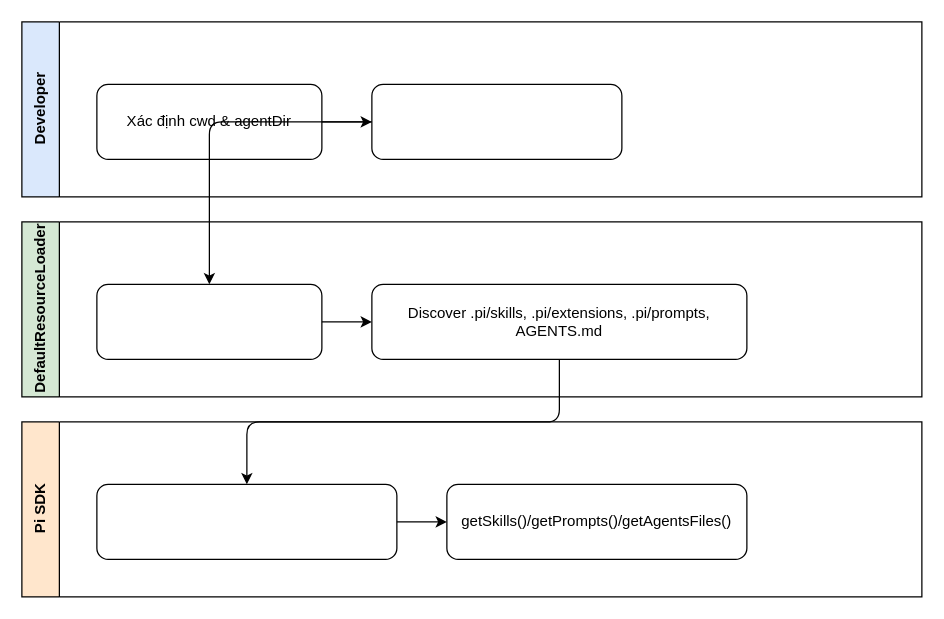
Some shapes in this 944 by 619 pixel diagram are drawn without their labels. The centre of each missing label's shape, as x and y in pixels:
Gọi loader.reload(): the point at 209,321
Khởi tạo Loader với cwd, agentDir: the point at 496,121
Tạo Agent Session với resourceLoader: the point at 246,521
